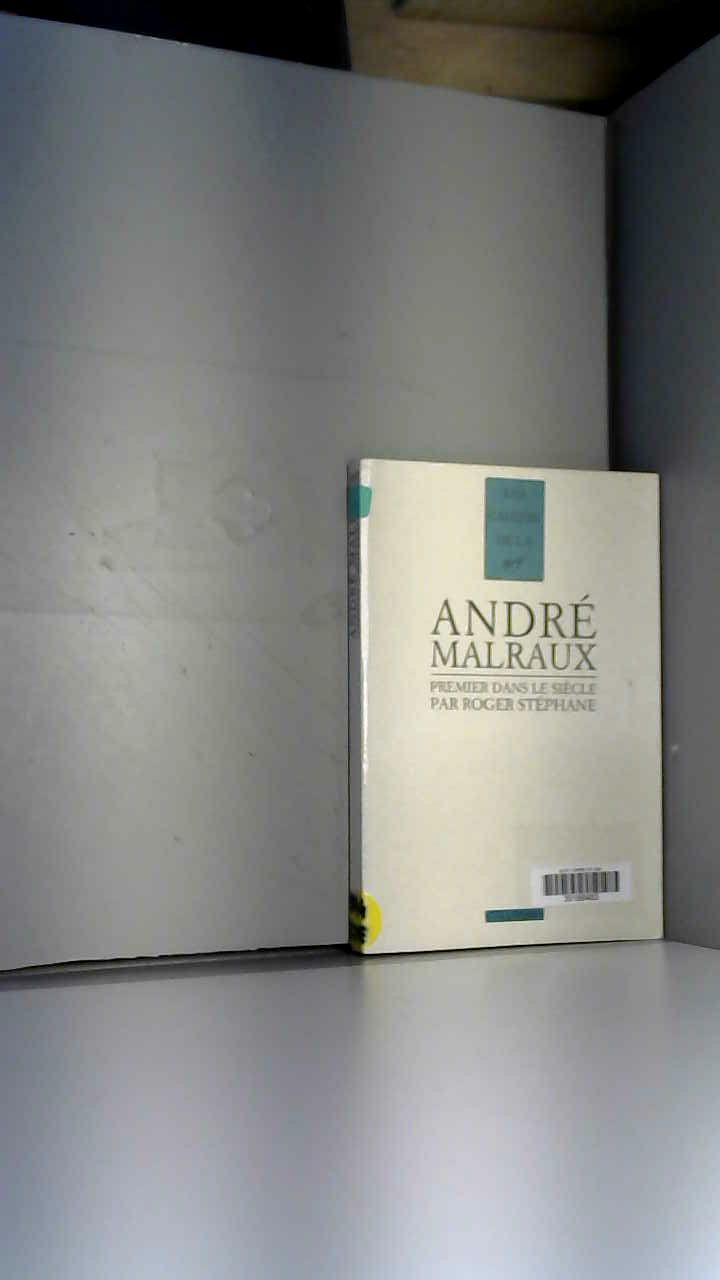book: (307, 406, 694, 992)
